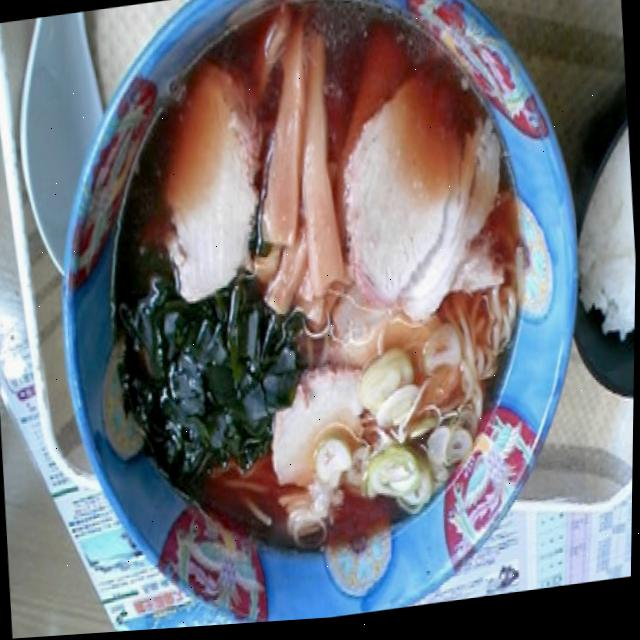面条主食: (43, 0, 595, 637)
